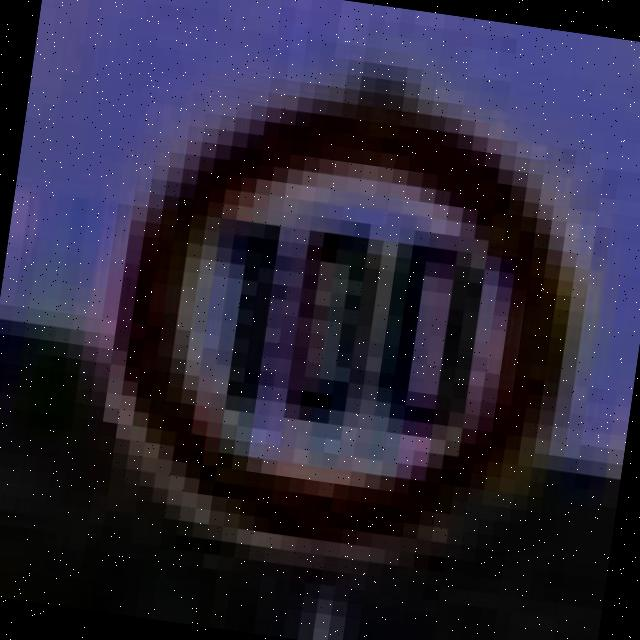Ograniczenie predkosci do 100: (3, 56, 609, 565)
